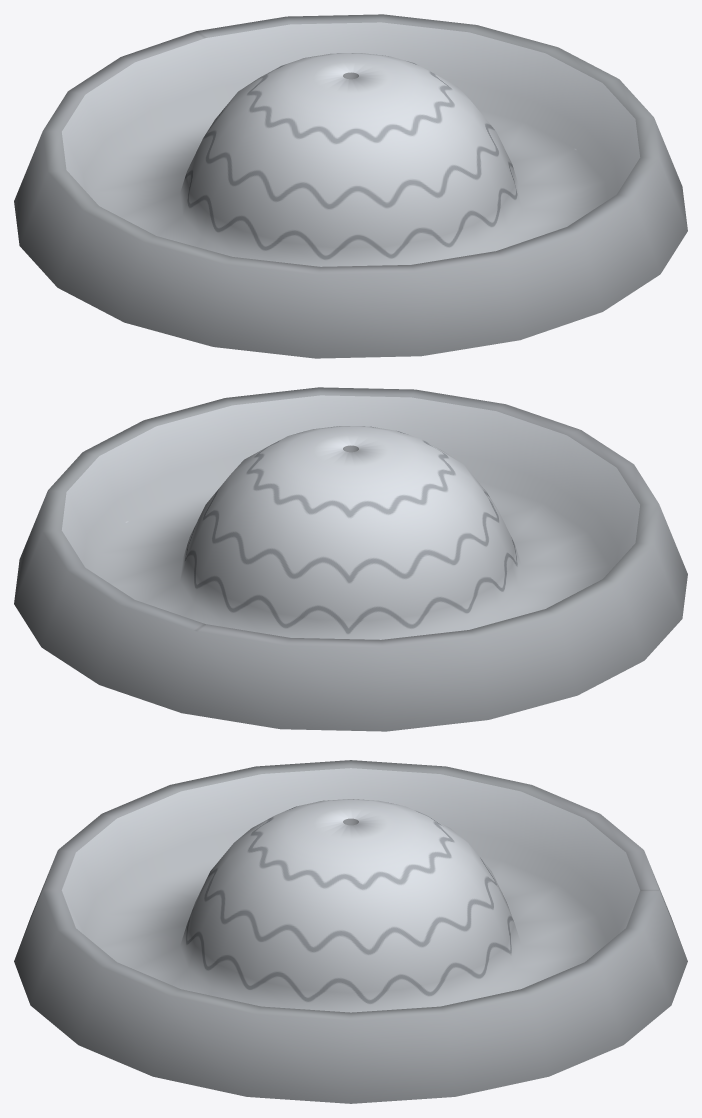
Rendered from Waterfountain 1.fbx.
3 renders of one model, top to bottom at view 1: azimuth 30°, elevation 25°; view 2: azimuth 150°, elevation 25°; view 3: azimuth 270°, elevation 25°, orthographic.
Visible parts, largest first — view 1: fountain; view 2: fountain; view 3: fountain.
Boxes of the visible parts, bbox=[...] form: fountain: bbox=[14, 14, 687, 358]; fountain: bbox=[14, 387, 687, 731]; fountain: bbox=[14, 760, 687, 1103].
Size of the model in its own units: 4 by 0.9136 by 4.
1 material, 1 textured.
